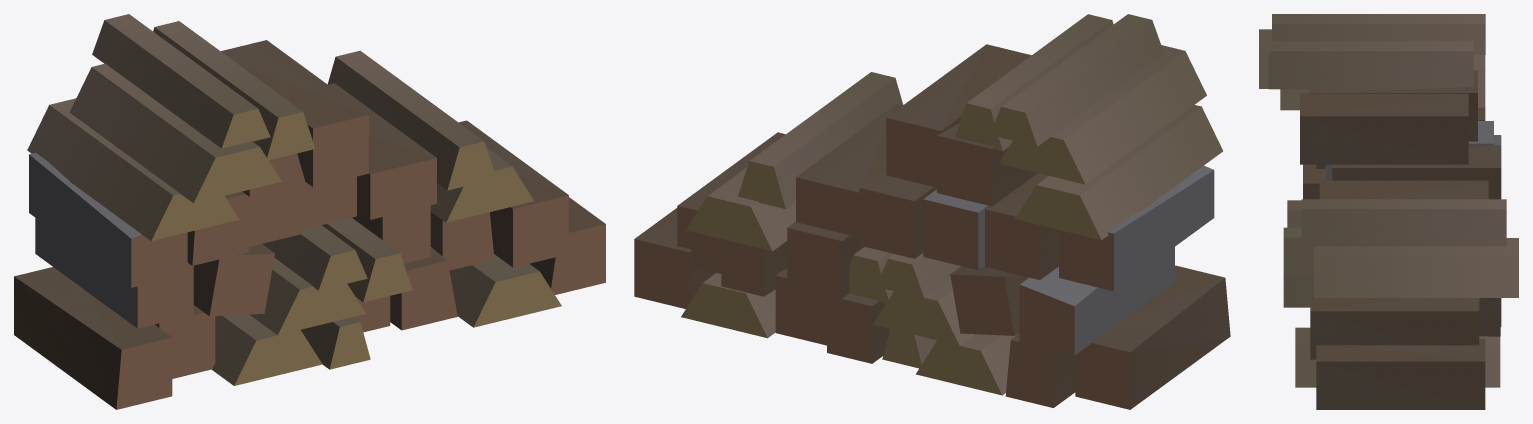
The model's file is Lumber_1.fbx.
The picture shows the model from 3 angles, left to right: view 1: azimuth 30°, elevation 25°; view 2: azimuth 150°, elevation 25°; view 3: azimuth 270°, elevation 25°; orthographic projection. The views are drawn at different scales.
Parts seen in each view (by area): view 1: pCylinder179; view 2: pCylinder179; view 3: pCylinder179.
Part boxes in pixels (<box>): pCylinder179: <box>14,14,605,409</box>; pCylinder179: <box>634,14,1230,409</box>; pCylinder179: <box>1259,14,1518,409</box>.
Size of the model in its own units: 168 by 92.33 by 92.25.
